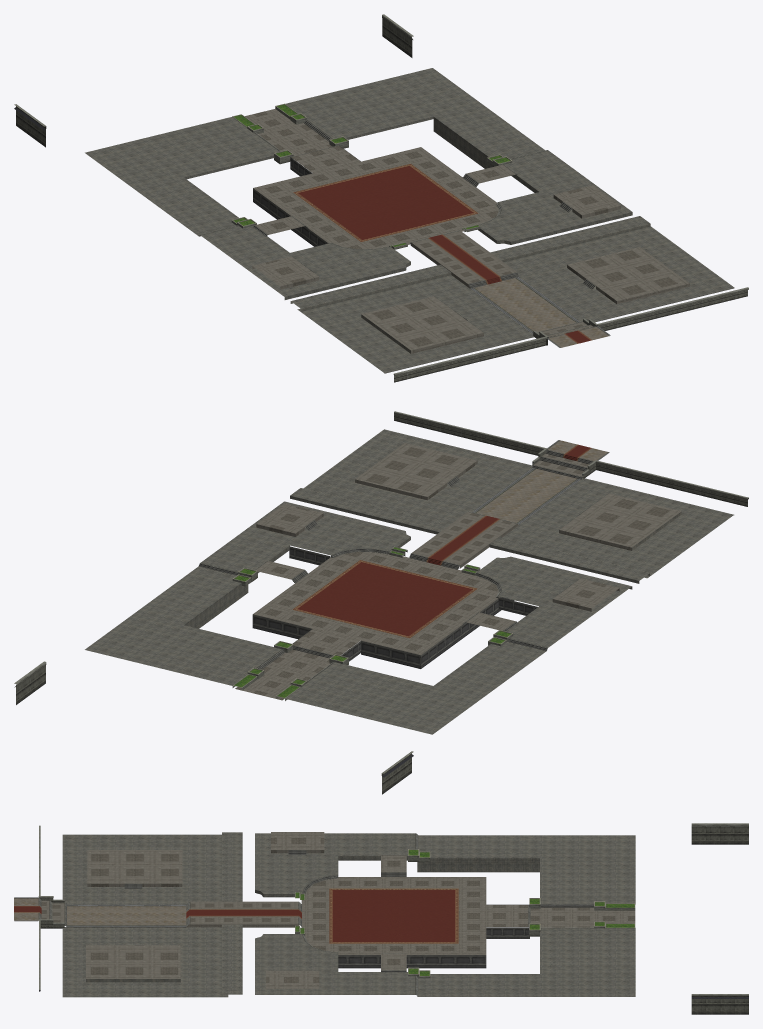
The model's file is SC_guowangchengbao_01.FBX.
The picture shows the model from 3 angles, top to bottom: view 1: azimuth 30°, elevation 25°; view 2: azimuth 150°, elevation 25°; view 3: azimuth 270°, elevation 25°; orthographic projection. The views are drawn at different scales.
Parts seen in each view (by area): view 1: SC_guowangchengbao_01; view 2: SC_guowangchengbao_01; view 3: SC_guowangchengbao_01.
Boxes of the visible parts, bbox=[...] form: SC_guowangchengbao_01: bbox=[14, 14, 748, 382]; SC_guowangchengbao_01: bbox=[14, 411, 748, 794]; SC_guowangchengbao_01: bbox=[14, 823, 748, 1014].
Size of the model in its own units: 11006 by 663 by 19877.
